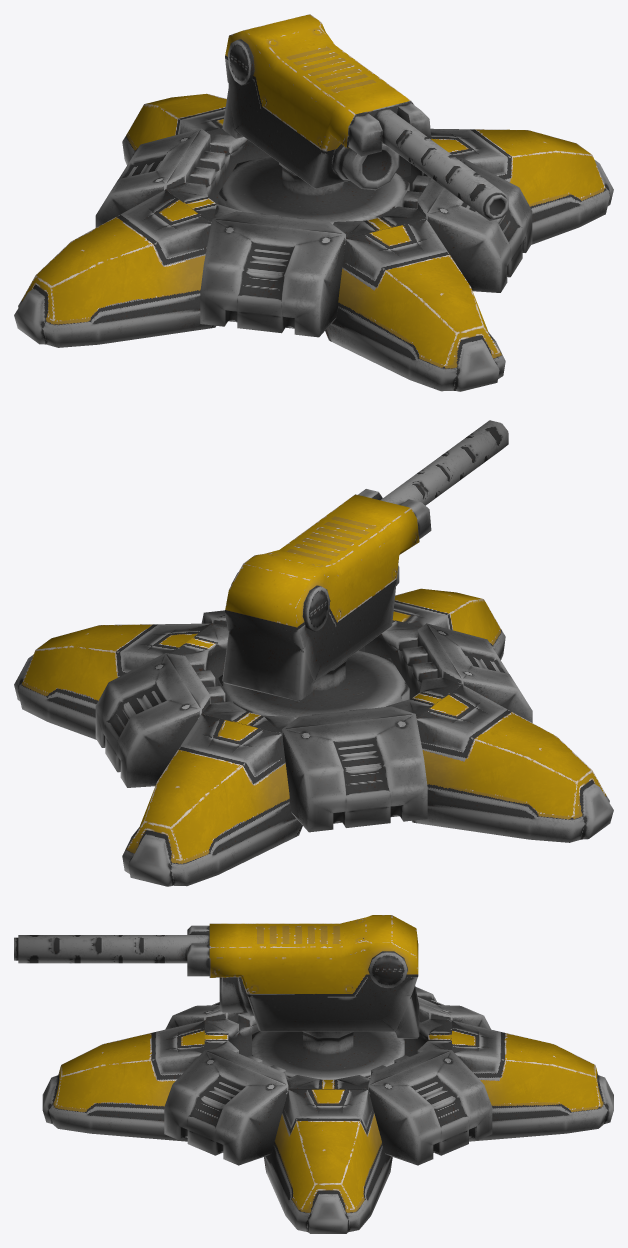
File: turret.fbx
3 views of the same model, one above another, from view 1: azimuth 30°, elevation 25°; view 2: azimuth 150°, elevation 25°; view 3: azimuth 270°, elevation 25° (orthographic). The views are drawn at different scales.
Parts seen in each view (by area): view 1: Base_low, Gun_low; view 2: Base_low, Gun_low; view 3: Base_low, Gun_low.
Boxes of the visible parts, x1,y1,x2,y2 form: Base_low: [14, 93, 613, 391]; Gun_low: [218, 14, 508, 224]; Base_low: [14, 588, 613, 886]; Gun_low: [218, 420, 508, 719]; Base_low: [42, 986, 613, 1233]; Gun_low: [14, 915, 419, 1079].
Bounding box in the file's own units: 53.77 × 19.41 × 56.47.
2 materials, 2 textured.
